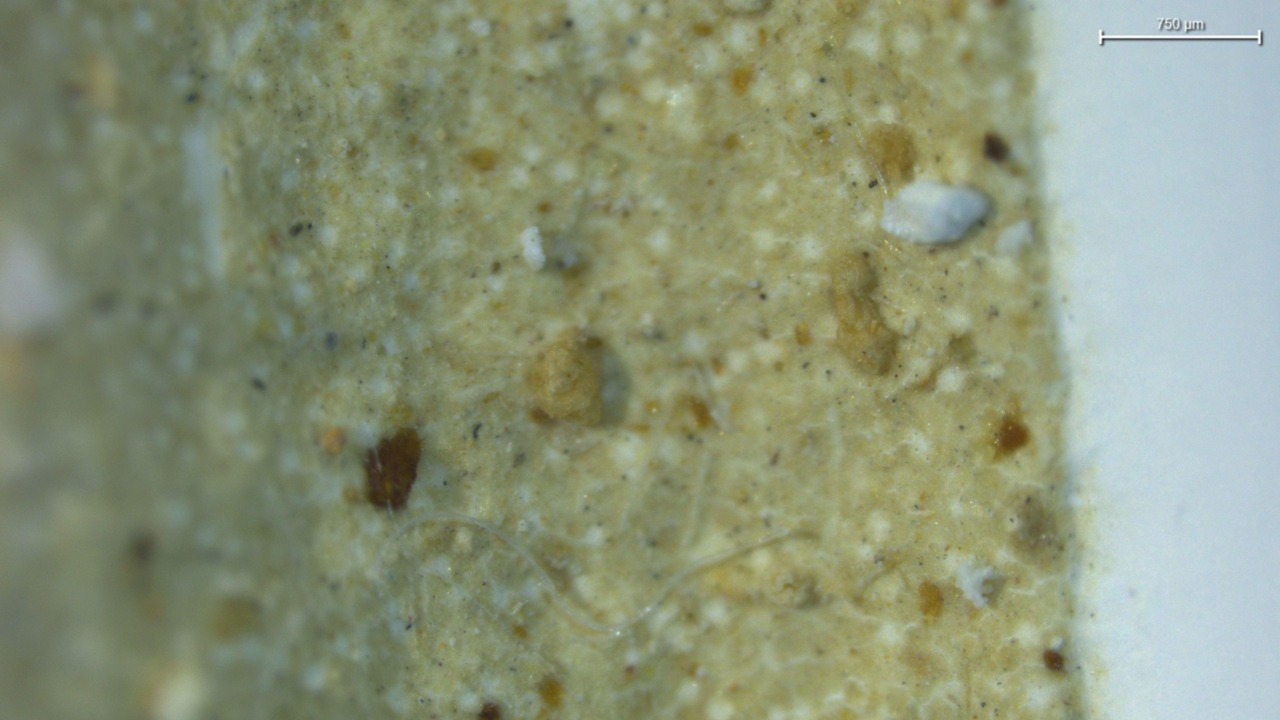microplastic_fragment: (880, 178, 992, 243), (955, 560, 993, 608), (520, 226, 545, 269)
